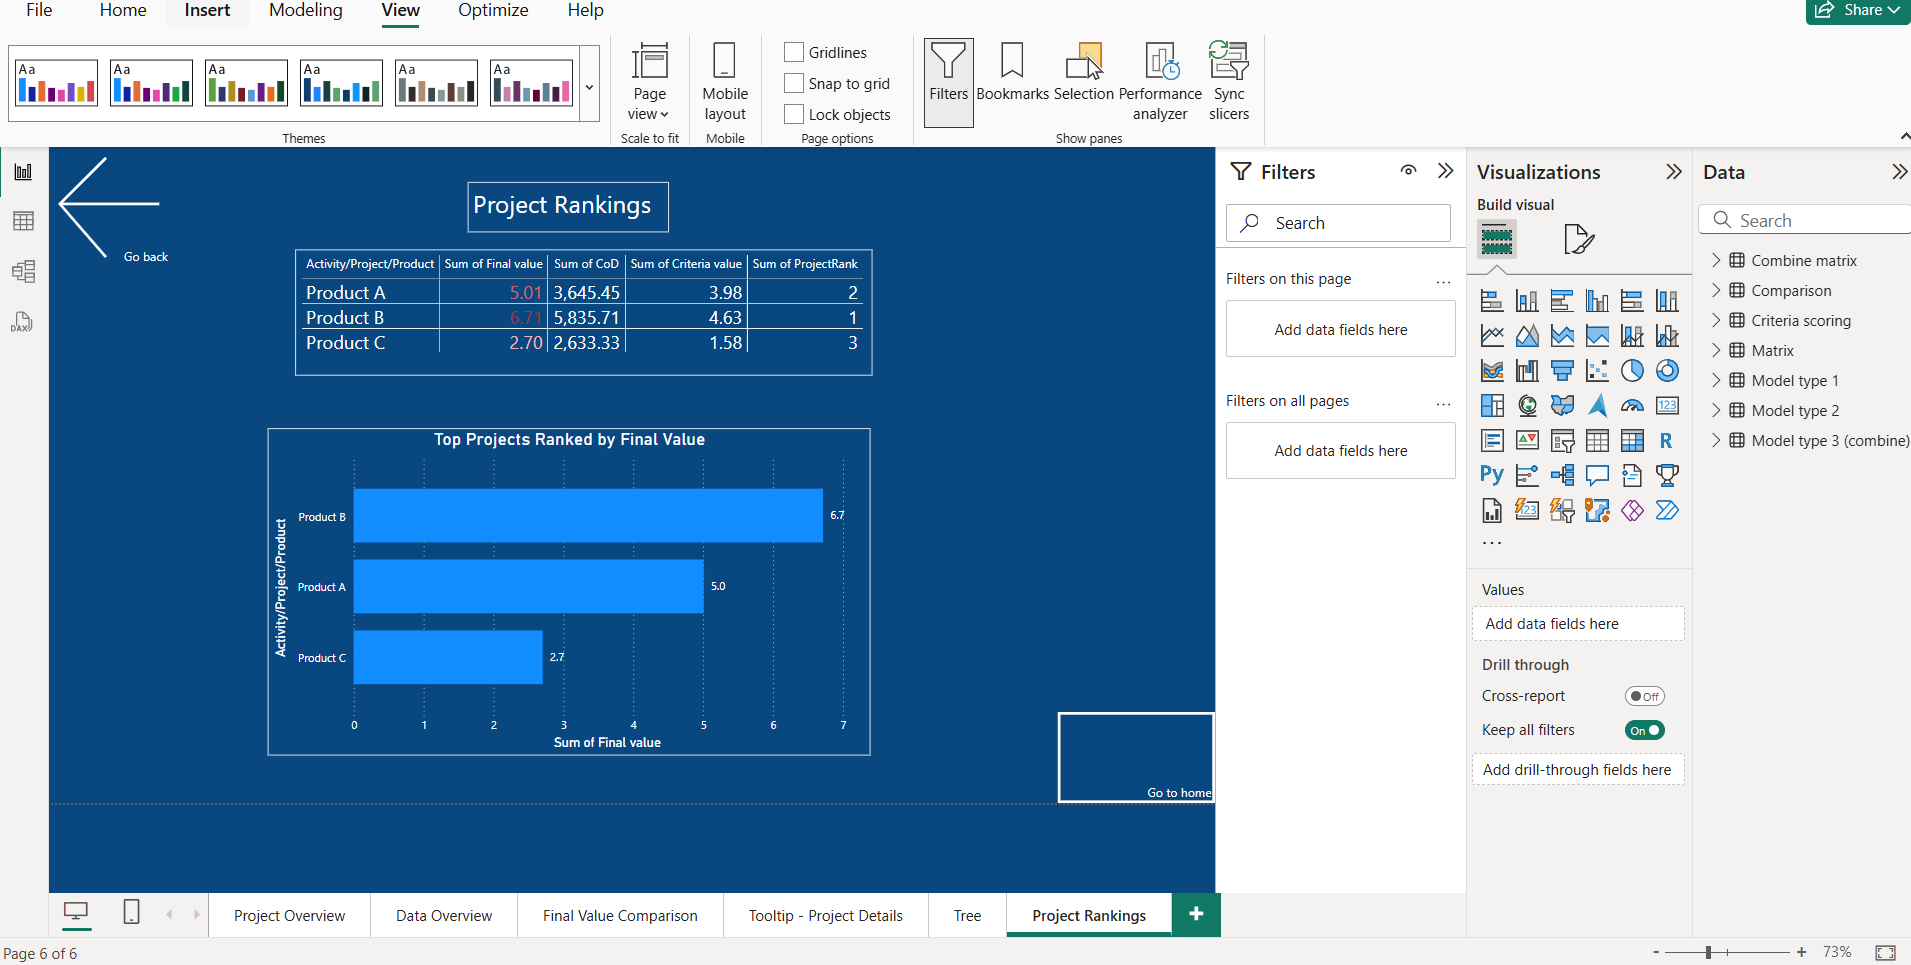

Layout of this report page (visuals, bound fields, positions):
{"tool":"powerbi","page":{"name":"Project Rankings","canvas":[1280,720],"ordinal":5},"visuals":[{"type":"tableEx","fields":{"Values":["Combine matrix.Activity/Project/Product","Sum(Combine matrix.Final value)","Sum(Combine matrix.CoD)","Sum(Combine matrix.Criteria value)","Sum(Combine matrix.ProjectRank)"]},"box":[270.3,112.5,634,138.6],"z":0},{"type":"textbox","box":[459.7,38.4,220.9,54.9],"z":1000},{"type":"clusteredBarChart","title":"Top Projects Ranked by Final Value","fields":{"Category":["Combine matrix.Activity/Project/Product"],"Y":["Sum(Combine matrix.Final value)"]},"box":[240.1,308.7,661.4,359.5],"z":2000},{"type":"actionButton","box":[1107.1,619.8,172.9,100.2],"z":2001},{"type":"actionButton","box":[0,0,134.5,133.1],"z":2002}]}

Visuals, with their boxes on the page's 1280x720 design canvas (x1, y1, x2, y2). These are canvas units, not pixel positions in the 1911x965 screenshot, which may show the page scaled, cropped or inside an application window:
tableEx - Combine matrix.Activity/Project/Product x Sum(Combine matrix.Final value): <box>270,112,904,251</box>
textbox: <box>460,38,681,93</box>
"Top Projects Ranked by Final Value" clusteredBarChart: <box>240,309,902,668</box>
actionButton: <box>1107,620,1280,720</box>
actionButton: <box>0,0,134,133</box>
